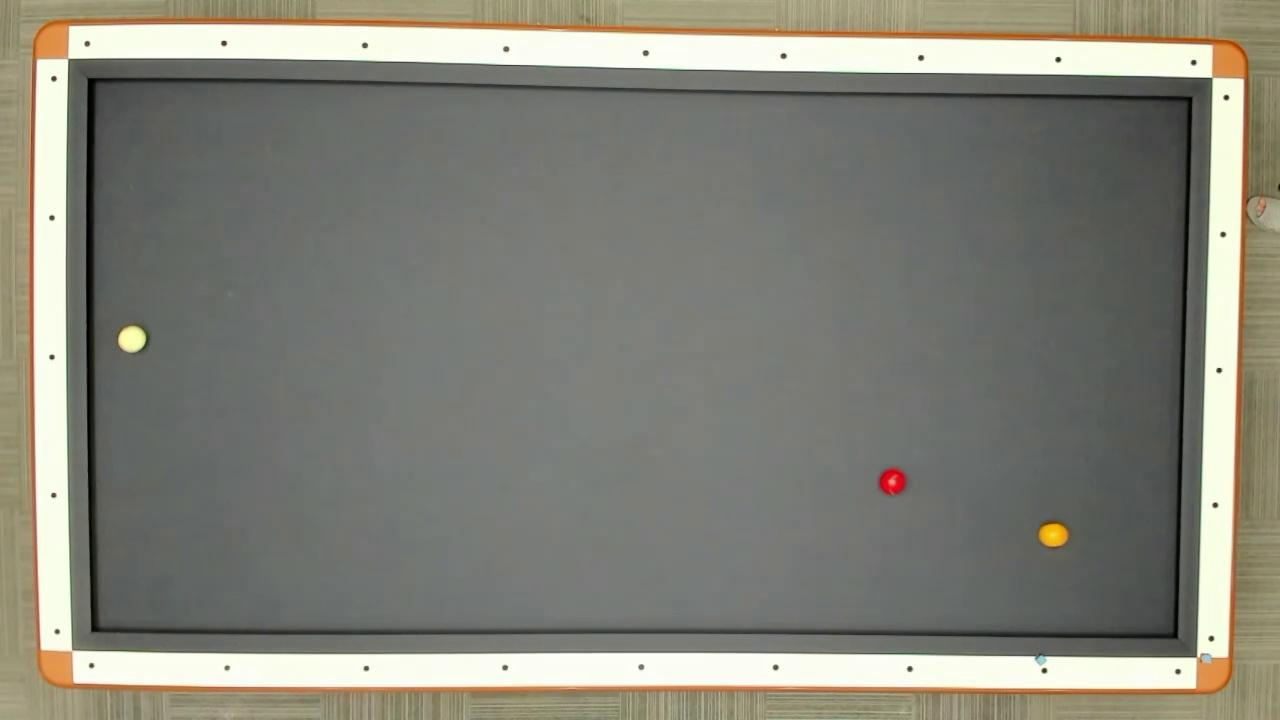Red: (878, 466, 908, 498)
White: (116, 322, 148, 356)
Yellow: (1037, 521, 1071, 549)
